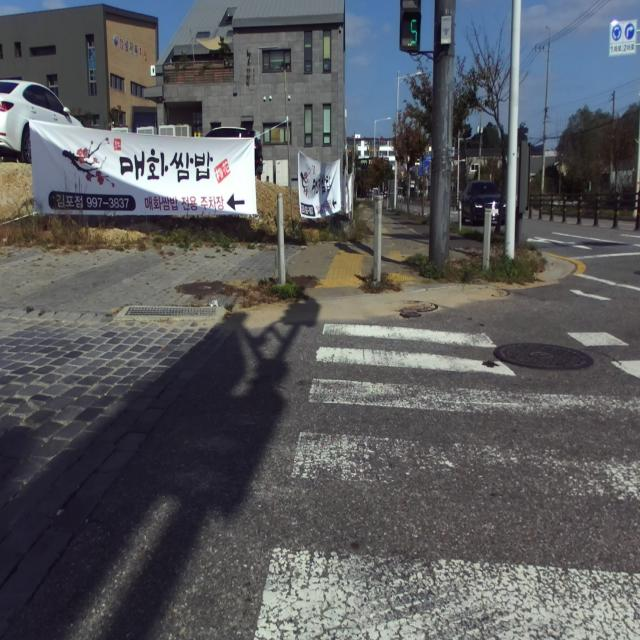초록불: (398, 0, 422, 51)
횡단보도: (253, 322, 640, 640)
